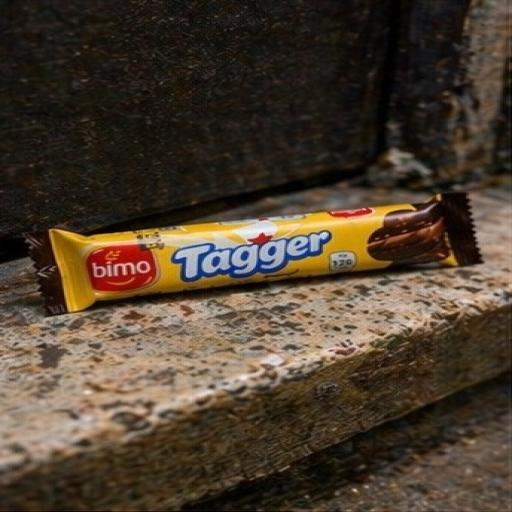tagger: (39, 181, 511, 328)
